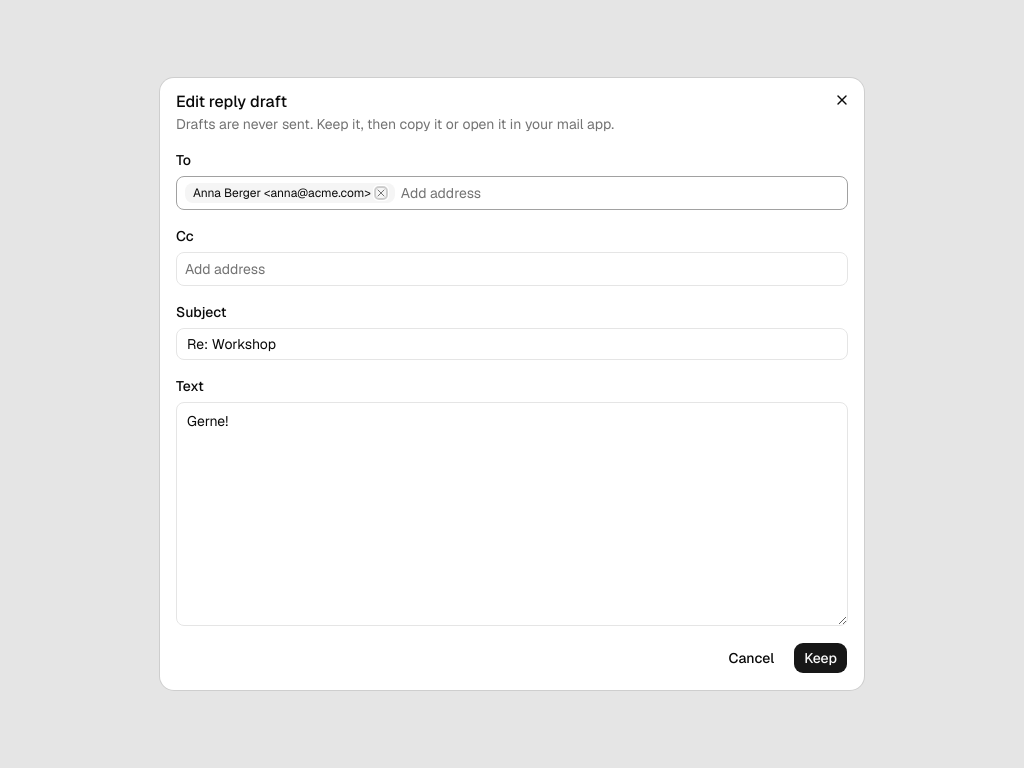
Scenario: ReplyDraftDialog › needs at least one recipient
Click the button named "Remove anna@acme.com from To" at x=381, y=193, box 375,187 -> 387,199
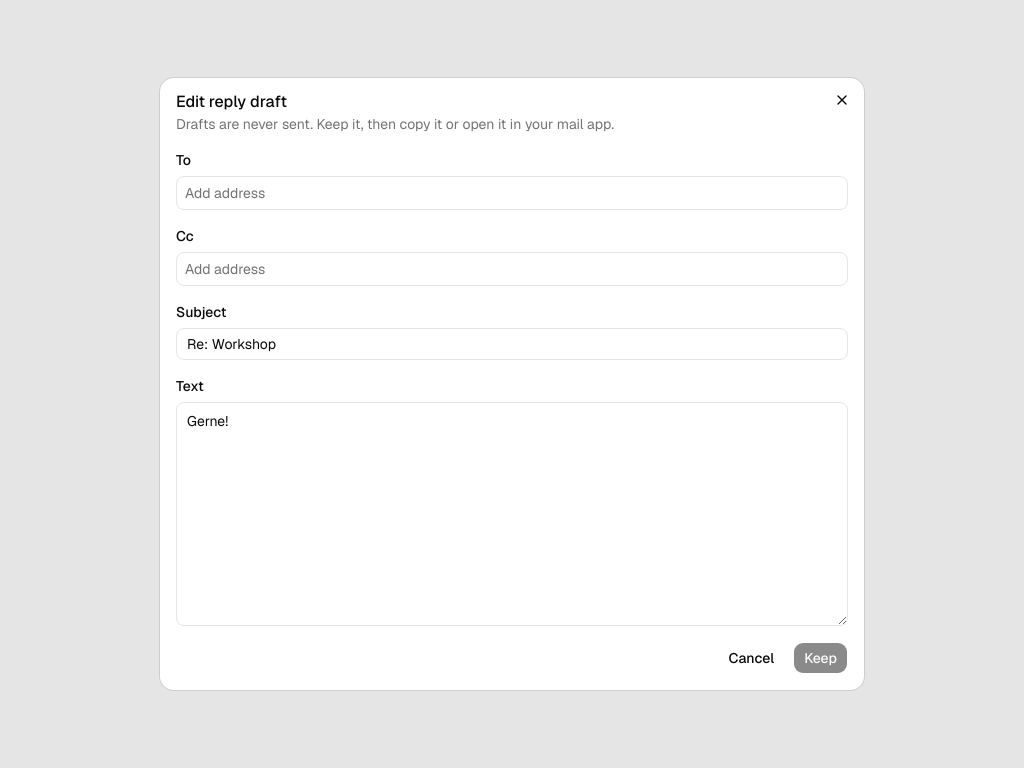
Result: the button "Keep" is disabled at 793,642 -> 848,674
